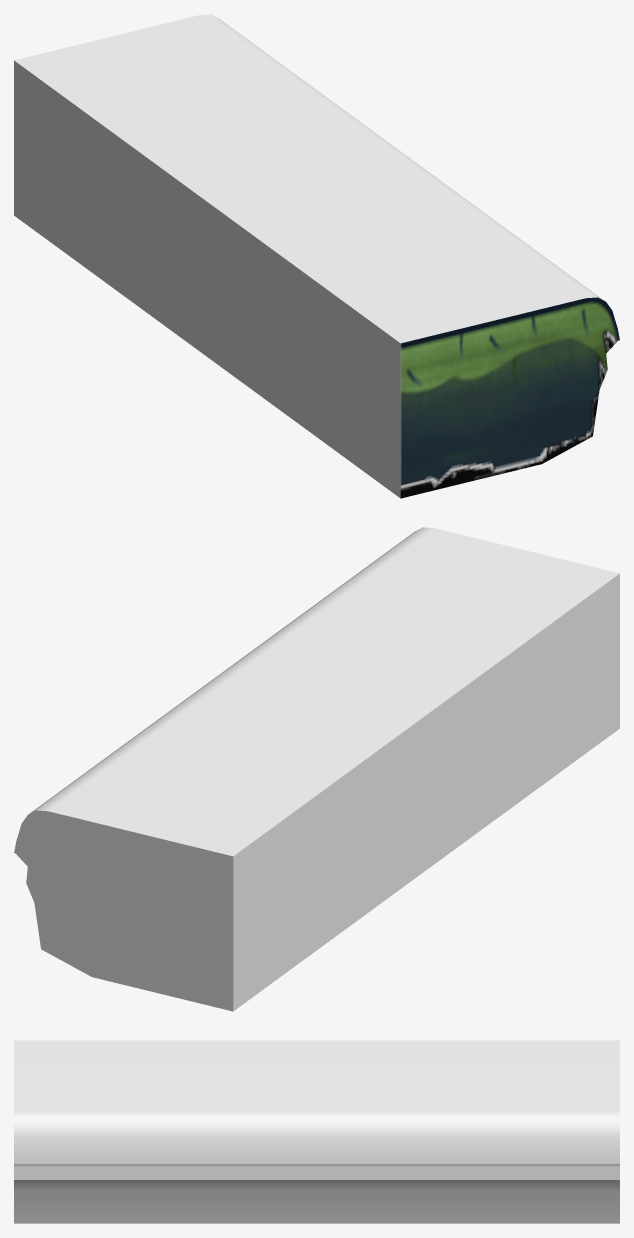
The model's file is Plataforma_01_TipRight_01.fbx.
3 renders of one model, top to bottom at view 1: azimuth 30°, elevation 25°; view 2: azimuth 150°, elevation 25°; view 3: azimuth 270°, elevation 25°, orthographic. The views are drawn at different scales.
Visible parts, largest first — view 1: Plataforma_TipRight_01; view 2: Plataforma_TipRight_01; view 3: Plataforma_TipRight_01.
Part boxes in pixels (x1,y1,x2,y2): Plataforma_TipRight_01: (14,14,619,498); Plataforma_TipRight_01: (14,527,619,1011); Plataforma_TipRight_01: (14,1040,619,1223).
Size of the model in its own units: 3 by 2.03 by 9.16.
